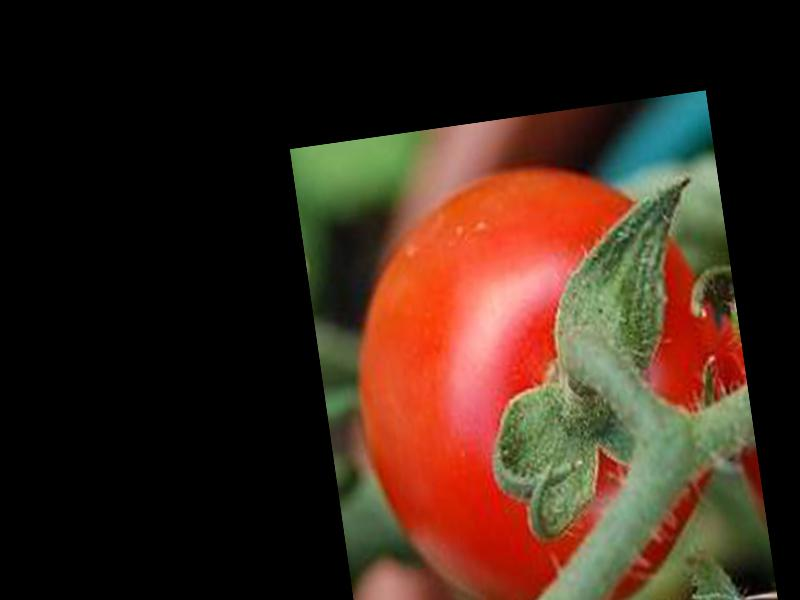Tomato: (331, 143, 766, 600)
